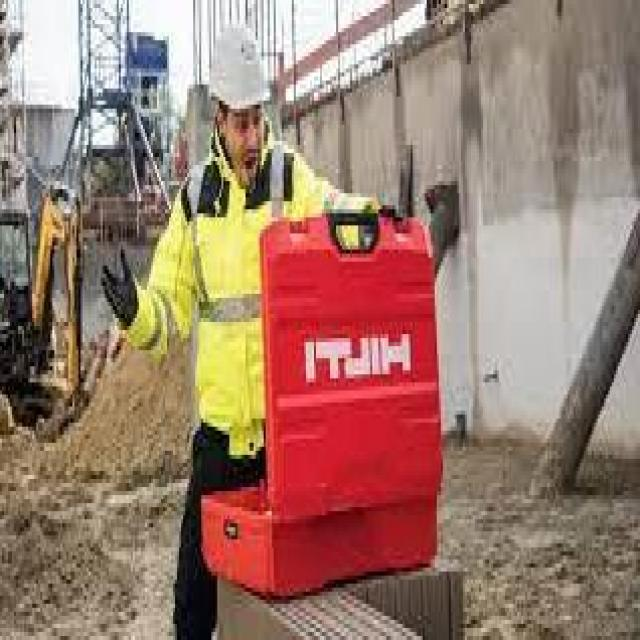Reflective-Jacket: (157, 149, 334, 487)
Safety-Helmet: (199, 8, 278, 125)
